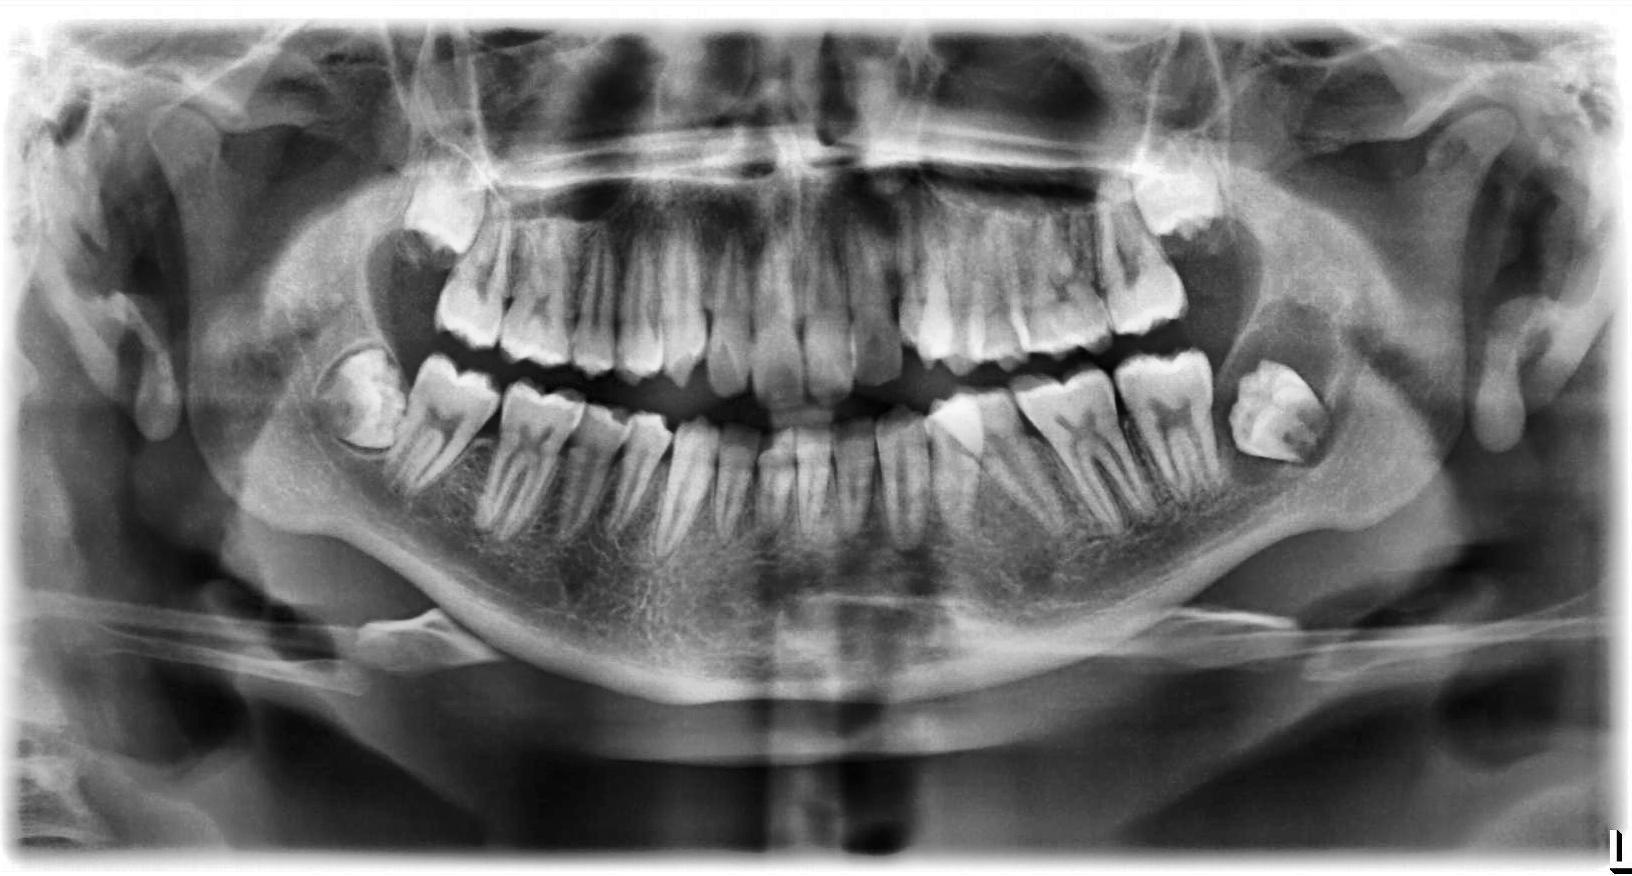enflamatuar: (1213, 298, 1338, 488)
